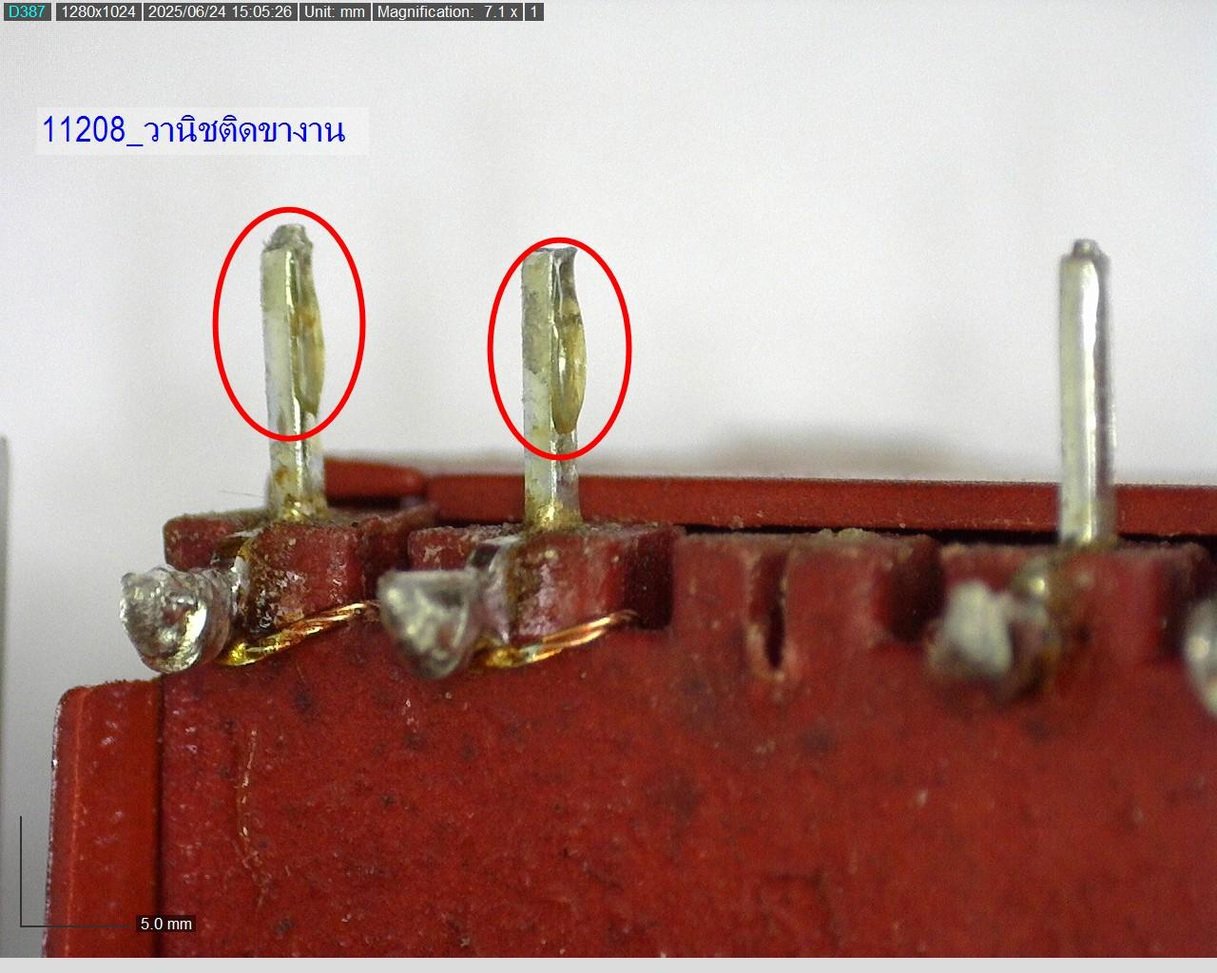varnish: (251, 220, 327, 417), (518, 249, 596, 438)
